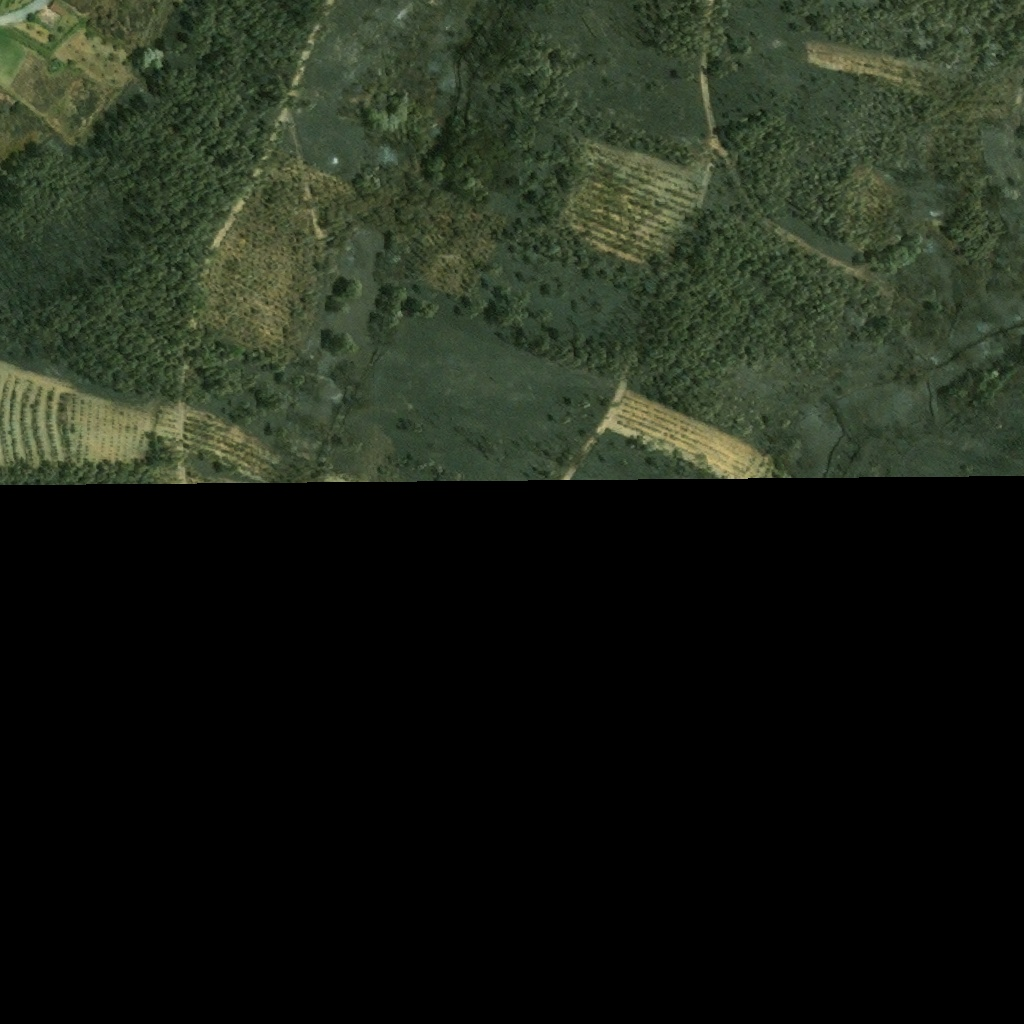4 un-classified: (48, 0, 68, 17)
